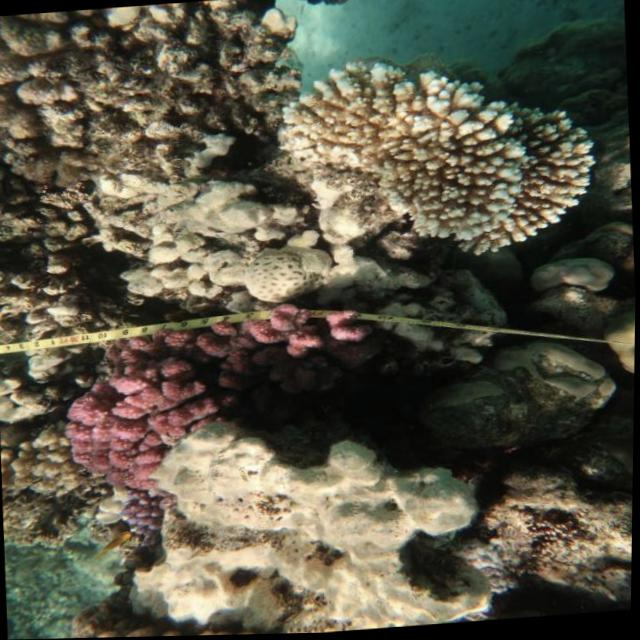Healthy Coral: (58, 289, 381, 498), (309, 43, 586, 245), (123, 489, 176, 551)
